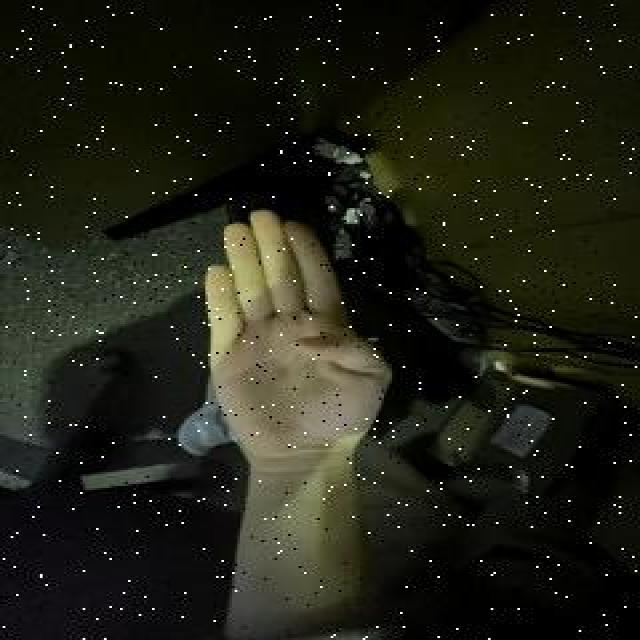B: (195, 203, 397, 473)
